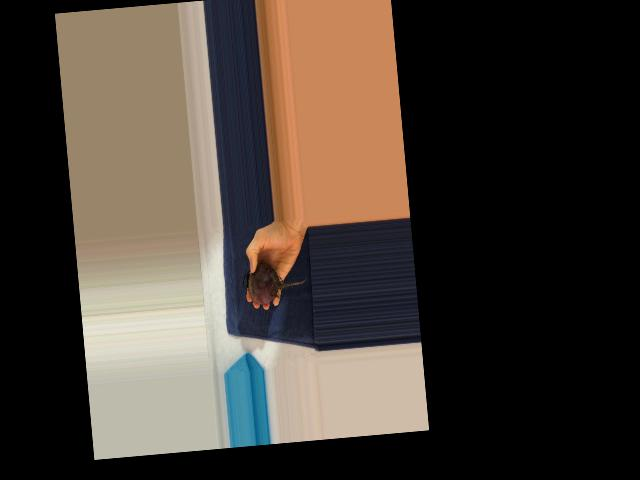beet: (242, 260, 309, 306)
